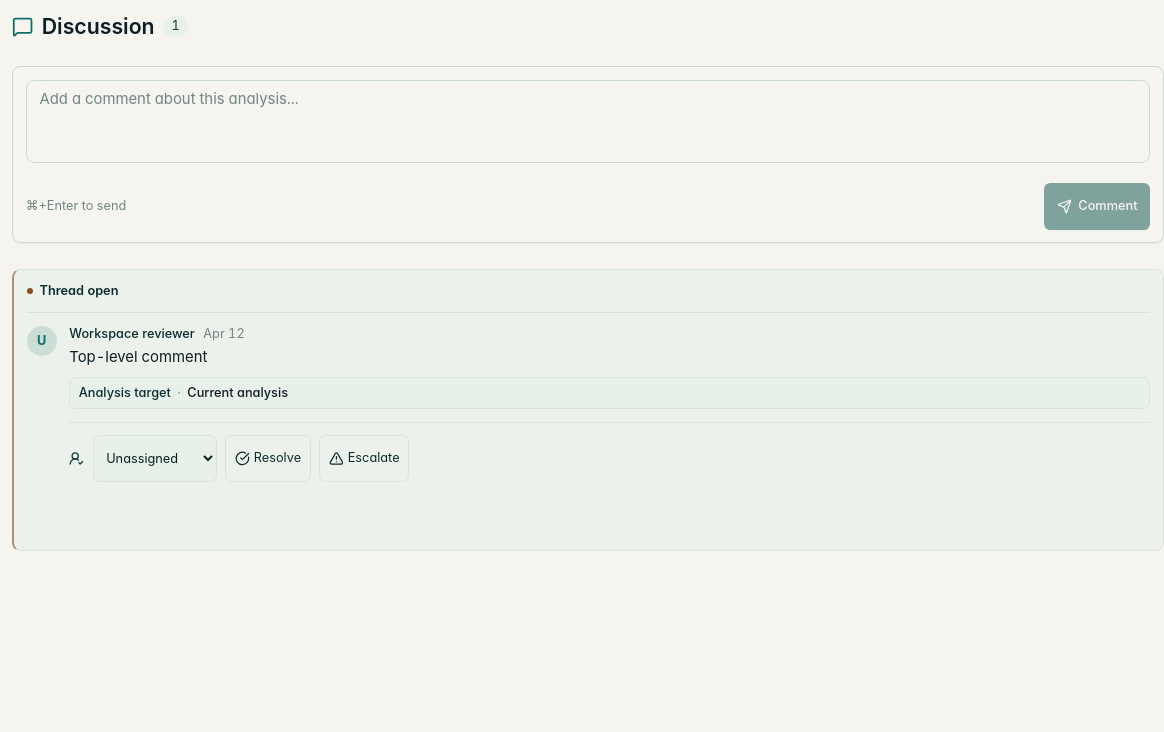
Test case: CommentPanel review queue actions › invalidates review-queue queries after escalating a thread
What coordinates should you click on to do the following:
click the button "Escalate"
I would click on:
 (364, 459)
Its box is 319,435 -> 409,482.
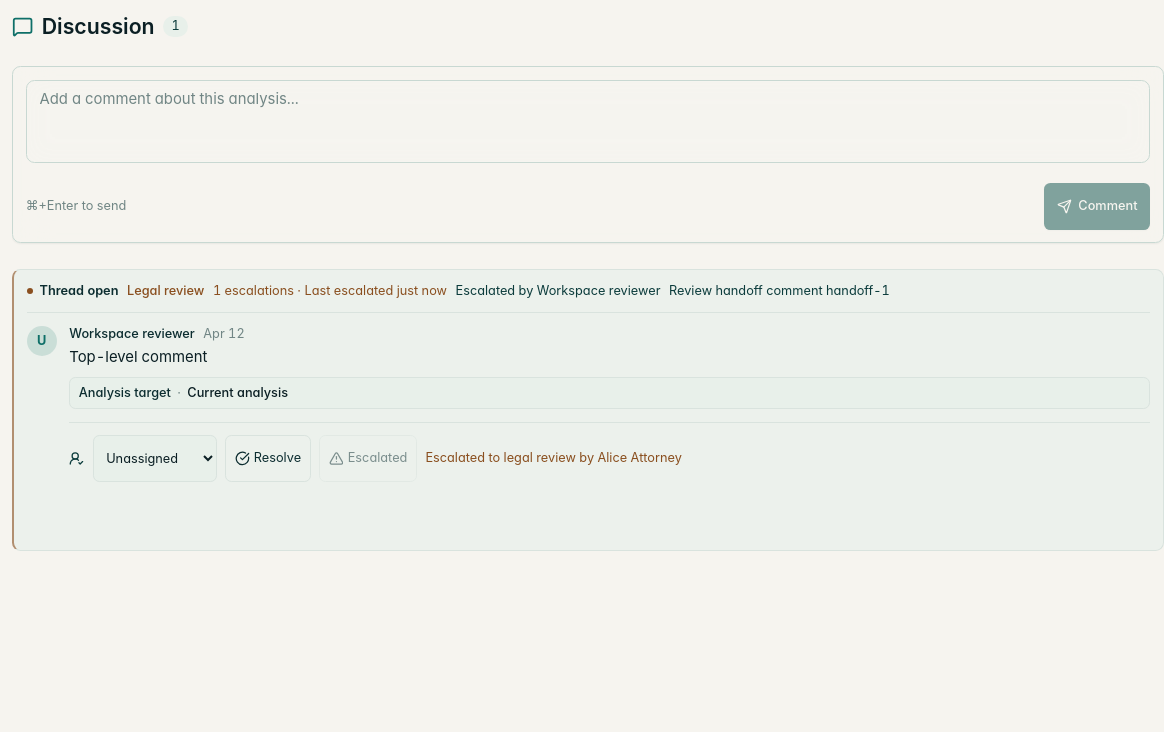
Result: the text "Escalated to legal review by Alice Attorney" is shown at 425,450 -> 682,467
